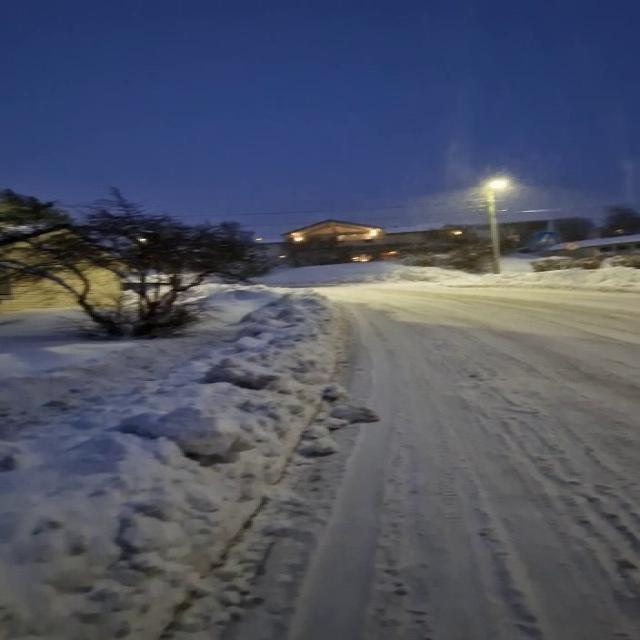path: (287, 285, 640, 640)
